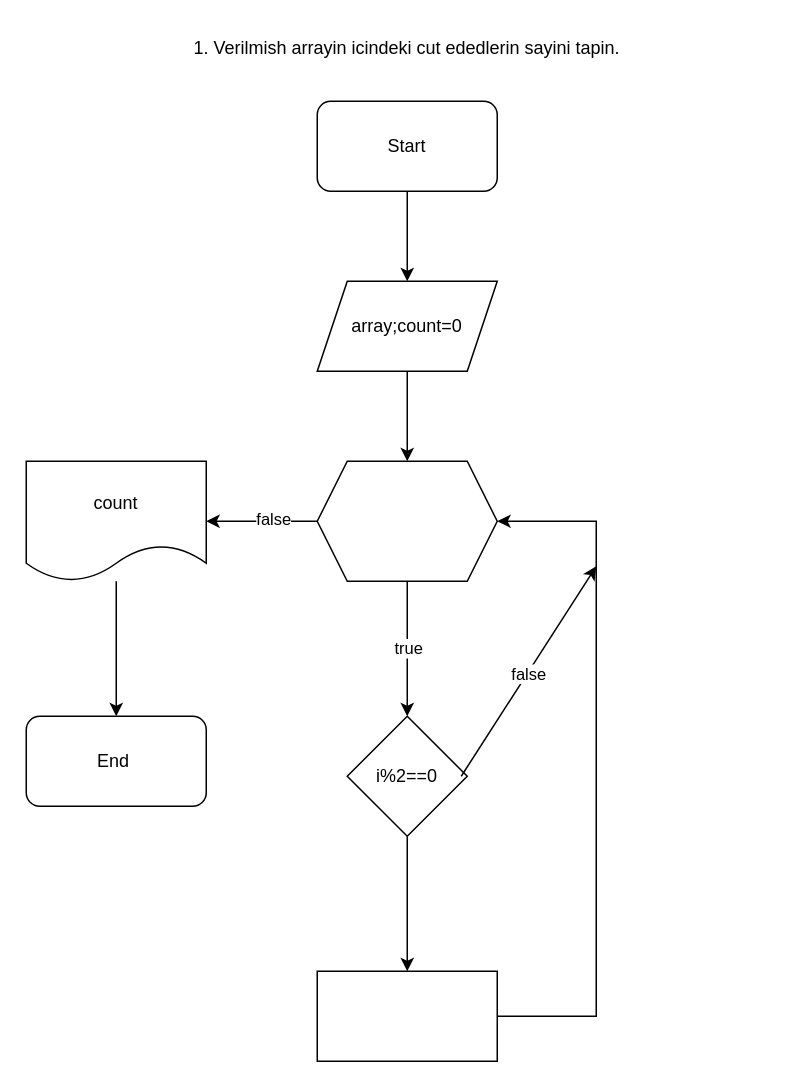
Some shapes in this 801 by 1088 pixel diagram are drawn without their labels. Each missing label, with the centre of its shape:
"count++" belongs at (406,1015).
"i=0; i<array; i++" belongs at (406,520).
